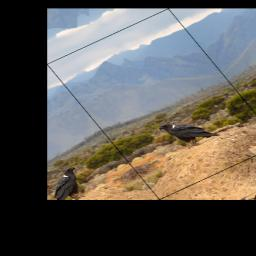Crow: (155, 107, 223, 156)
